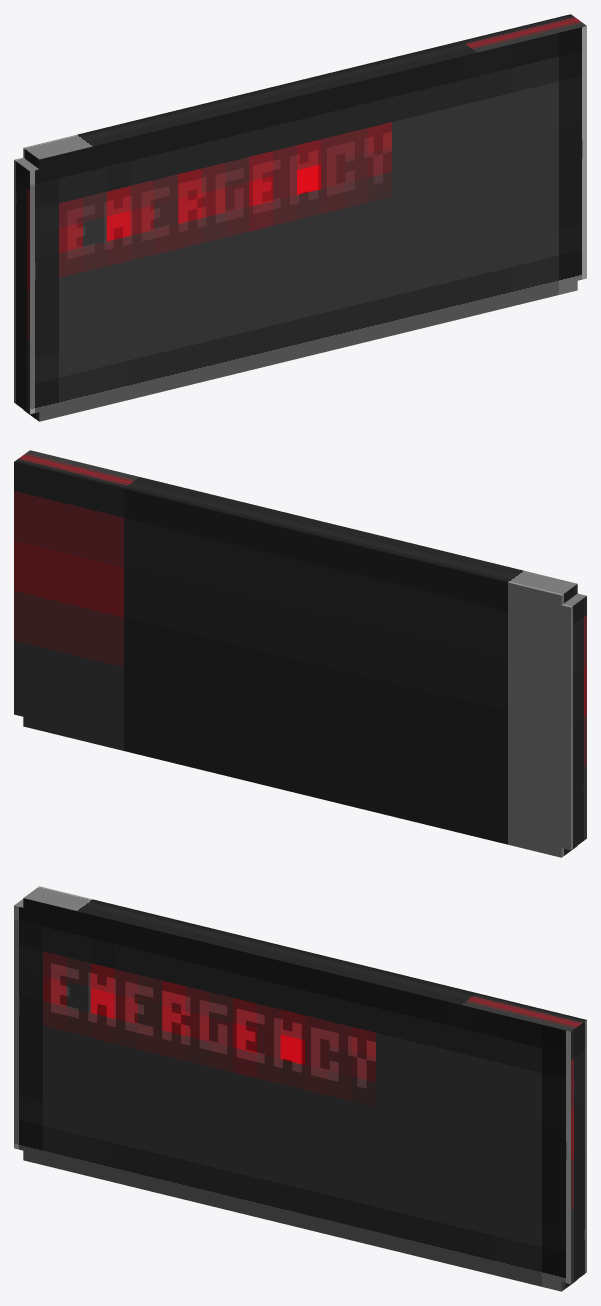
File: bar_sign_emergencyrumparty.glb
3 renders of one model, top to bottom at view 1: azimuth 30°, elevation 25°; view 2: azimuth 150°, elevation 25°; view 3: azimuth 330°, elevation 25°, orthographic.
Parts seen in each view (by area): view 1: Shaped_Bar_Sign_Housing, Light_Overlay; view 2: Shaped_Bar_Sign_Housing; view 3: Shaped_Bar_Sign_Housing, Light_Overlay.
Boxes of the visible parts, x1,y1,x2,y2 form: Shaped_Bar_Sign_Housing: (14, 14, 586, 421); Light_Overlay: (67, 132, 391, 259); Shaped_Bar_Sign_Housing: (14, 450, 586, 857); Shaped_Bar_Sign_Housing: (14, 886, 586, 1291); Light_Overlay: (51, 963, 375, 1088).
Size of the model in its own units: 1.69 by 0.7594 by 0.0847.
2 materials, 2 textured.
